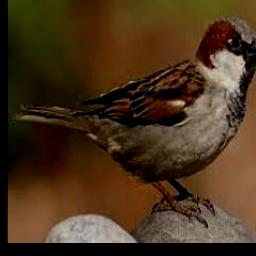Sparrow: (12, 17, 256, 226)
